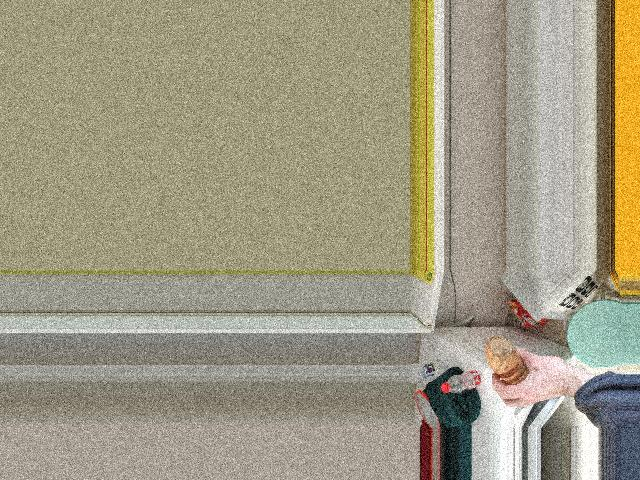sweet_potato: (483, 338, 527, 381)
